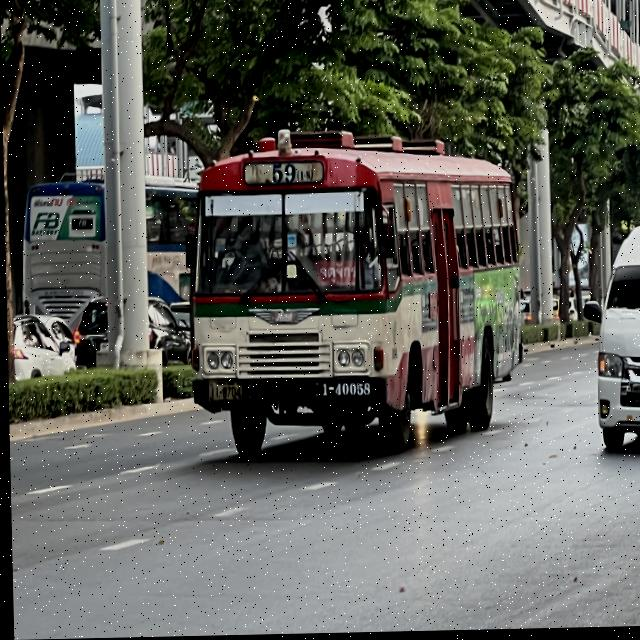BMTA-bus: (180, 121, 525, 472)
Bus Line Number: (245, 162, 324, 187)
Bus Side Number: (317, 380, 372, 400)
Destination Sign: (312, 262, 364, 295)
